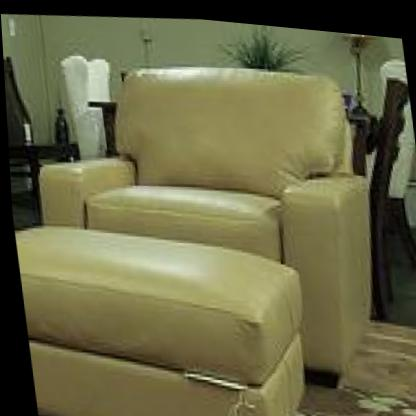Sofa: (21, 35, 387, 408)
